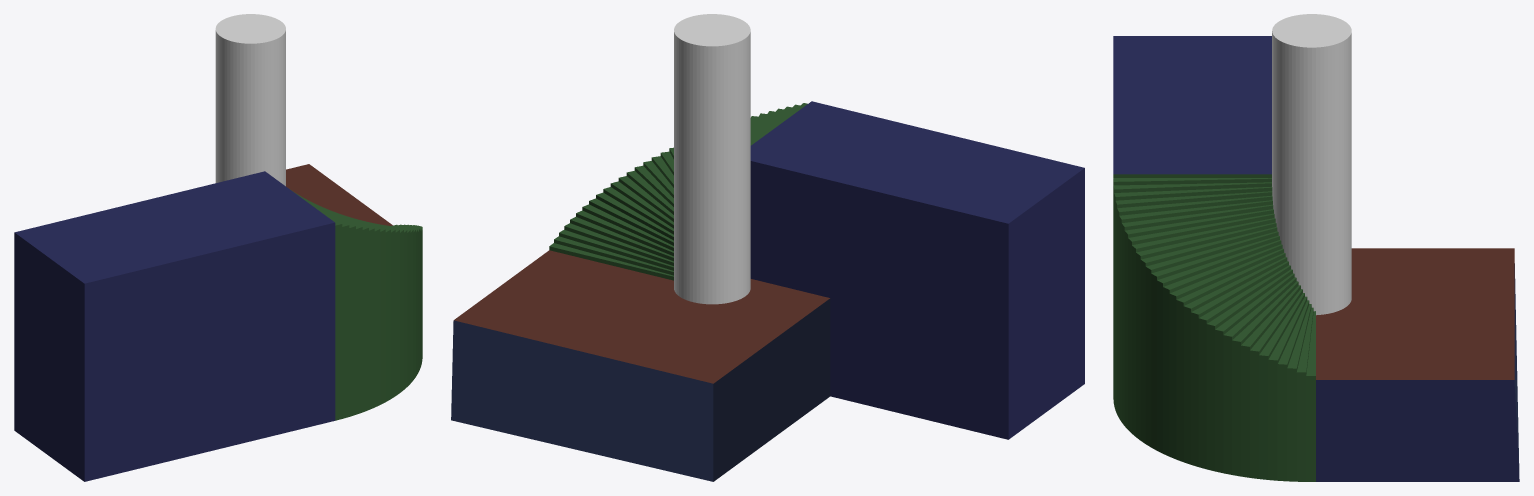
The model's file is curvedStaircase.fbx.
3 renders of one model, left to right at view 1: azimuth 30°, elevation 25°; view 2: azimuth 150°, elevation 25°; view 3: azimuth 270°, elevation 25°, orthographic. The views are drawn at different scales.
Visible parts, largest first — view 1: Stairs, Column, Floor; view 2: Stairs, Floor, Column; view 3: Stairs, Floor, Column.
Part boxes in pixels (x1,y1,x2,y2): Stairs: [14, 171, 422, 481]; Column: [215, 14, 285, 186]; Floor: [286, 164, 392, 225]; Stairs: [549, 101, 1084, 439]; Floor: [451, 250, 830, 481]; Column: [674, 14, 750, 304]; Stairs: [1113, 36, 1315, 481]; Floor: [1316, 248, 1519, 481]; Column: [1272, 14, 1351, 315].
Size of the model in its own units: 1055 by 820 by 816.
